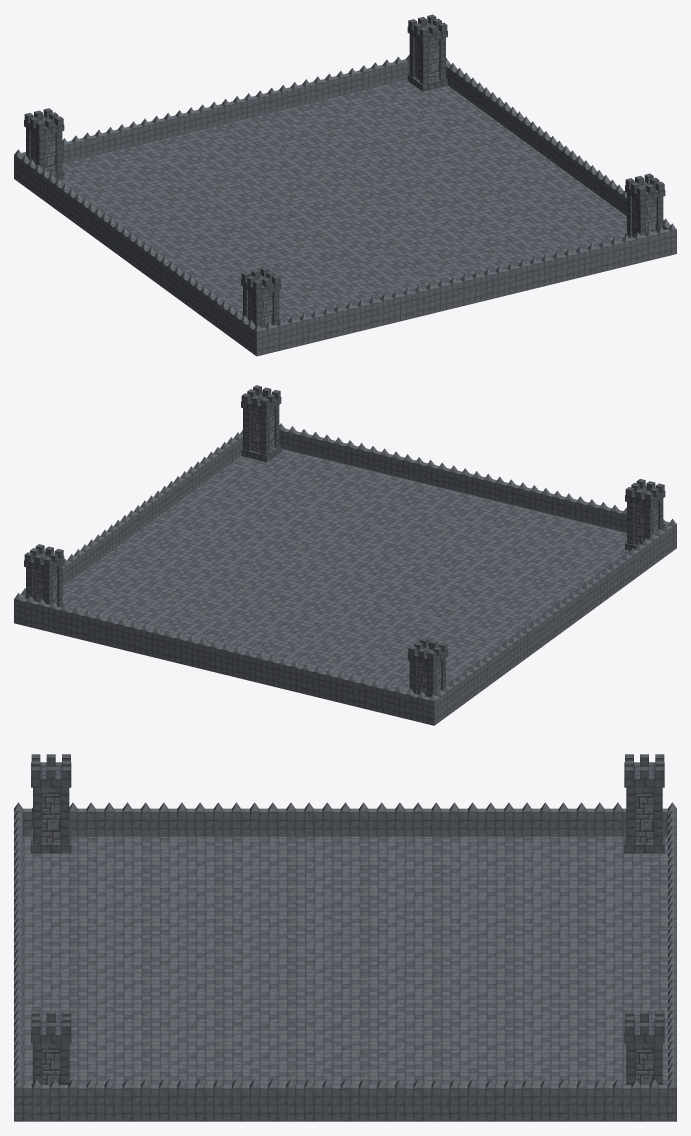
Rendered from GameObject.fbx.
3 views of the same model, one above another, from view 1: azimuth 30°, elevation 25°; view 2: azimuth 150°, elevation 25°; view 3: azimuth 270°, elevation 25° (orthographic). The views are drawn at different scales.
Visible parts, largest first — view 1: Castle_Tower_3__4_, Castle_Tower_3__2_, Castle_Tower_3__3_, Castle_Tower_3__1_, Castle_Wall_8__1_, Castle_Wall_8__3_, Castle_Wall_8__7_, Castle_Wall_8__2_, Castle_Wall_8__4_, Castle_Wall_8__5_, Castle_Wall_8__8_, Castle_Wall_8__9_ (+92 smaller); view 2: Castle_Tower_3__3_, Castle_Tower_3__1_, Castle_Tower_3__4_, Castle_Tower_3__2_, Castle_Wall_8__10_, Castle_Wall_8__13_, Castle_Wall_8__14_, Castle_Wall_8__15_, Castle_Wall_8__17_, Castle_Wall_8__18_, Castle_Wall_8__11_, Castle_Wall_8__12_ (+93 smaller); view 3: Castle_Tower_3__1_, Castle_Tower_3__2_, Castle_Wall_8__19_, Castle_Wall_8__26_, Castle_Wall_8__20_, Castle_Wall_8__23_, Castle_Wall_8__22_, Castle_Wall_8__24_, Castle_Wall_8__25_, Castle_Wall_8__21_, Castle_Wall_8__27_, Castle_Tower_3__3_ (+82 smaller).
Part boxes in pixels (box(x1,y1,x2,y2)): Castle_Tower_3__4_: box(407, 14, 447, 91); Castle_Tower_3__2_: box(24, 108, 64, 180); Castle_Tower_3__3_: box(625, 173, 665, 238); Castle_Tower_3__1_: box(241, 267, 281, 327); Castle_Wall_8__1_: box(253, 313, 308, 355); Castle_Wall_8__3_: box(348, 291, 400, 332); Castle_Wall_8__7_: box(532, 246, 584, 287); Castle_Wall_8__2_: box(301, 302, 354, 344); Castle_Wall_8__4_: box(393, 280, 446, 321); Castle_Wall_8__5_: box(439, 268, 492, 309); Castle_Wall_8__8_: box(577, 234, 630, 276); Castle_Wall_8__9_: box(623, 223, 676, 264); Castle_Tower_3__3_: box(241, 385, 281, 461); Castle_Tower_3__1_: box(625, 479, 665, 550); Castle_Tower_3__4_: box(24, 544, 64, 607); Castle_Tower_3__2_: box(407, 638, 447, 697); Castle_Wall_8__10_: box(382, 683, 437, 725); Castle_Wall_8__13_: box(244, 649, 295, 690); Castle_Wall_8__14_: box(198, 638, 251, 680); Castle_Wall_8__15_: box(152, 627, 205, 668); Castle_Wall_8__17_: box(60, 604, 113, 646); Castle_Wall_8__18_: box(14, 593, 65, 635); Castle_Wall_8__11_: box(336, 672, 390, 712); Castle_Wall_8__12_: box(290, 660, 344, 703); Castle_Tower_3__1_: box(31, 754, 71, 853); Castle_Tower_3__2_: box(624, 754, 664, 853); Castle_Wall_8__19_: box(14, 1079, 95, 1121); Castle_Wall_8__26_: box(522, 1079, 604, 1121); Castle_Wall_8__20_: box(86, 1079, 168, 1121); Castle_Wall_8__23_: box(304, 1079, 386, 1121); Castle_Wall_8__22_: box(232, 1079, 313, 1121); Castle_Wall_8__24_: box(377, 1079, 458, 1121); Castle_Wall_8__25_: box(450, 1079, 531, 1121); Castle_Wall_8__21_: box(159, 1079, 240, 1121); Castle_Wall_8__27_: box(595, 1079, 676, 1121); Castle_Tower_3__3_: box(31, 1010, 71, 1084).
Size of the model in its own units: 5475 by 830 by 5475.
1 material, 1 textured.
